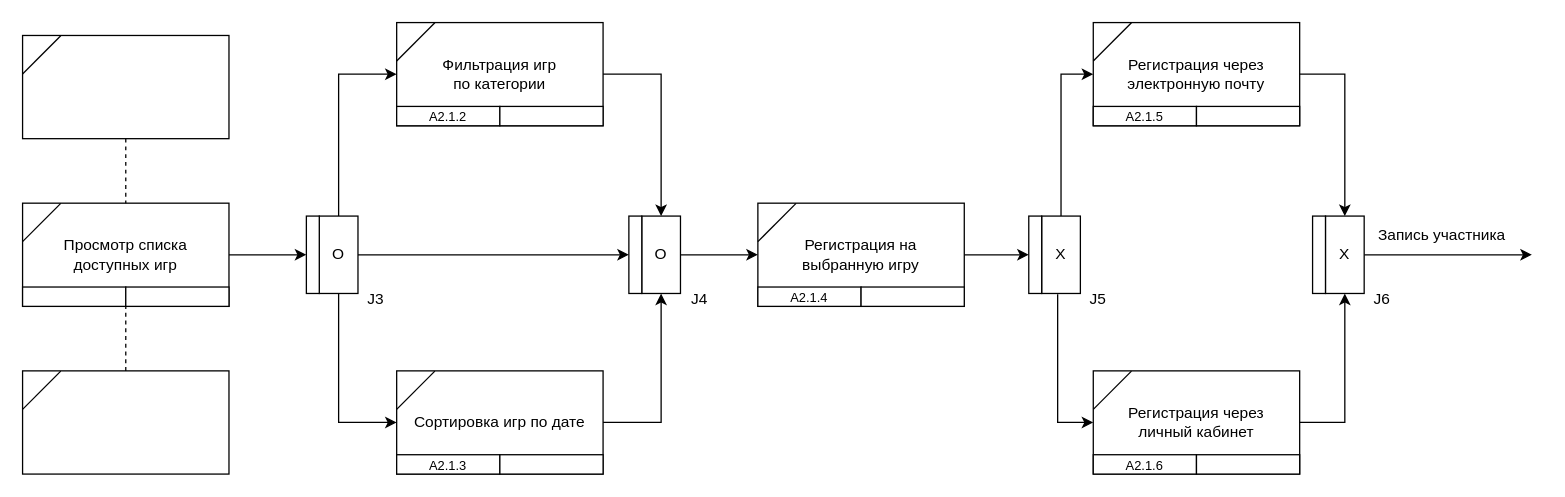
Image size: 1565x497. Some labels were removed from this diagram. The centre of each missing label's shape, as x and y in pixels:
"А2.1.1" goes at point 73,296.
"Доступные игры" goes at point 125,422.
"Пользователь" goes at point 125,86.
